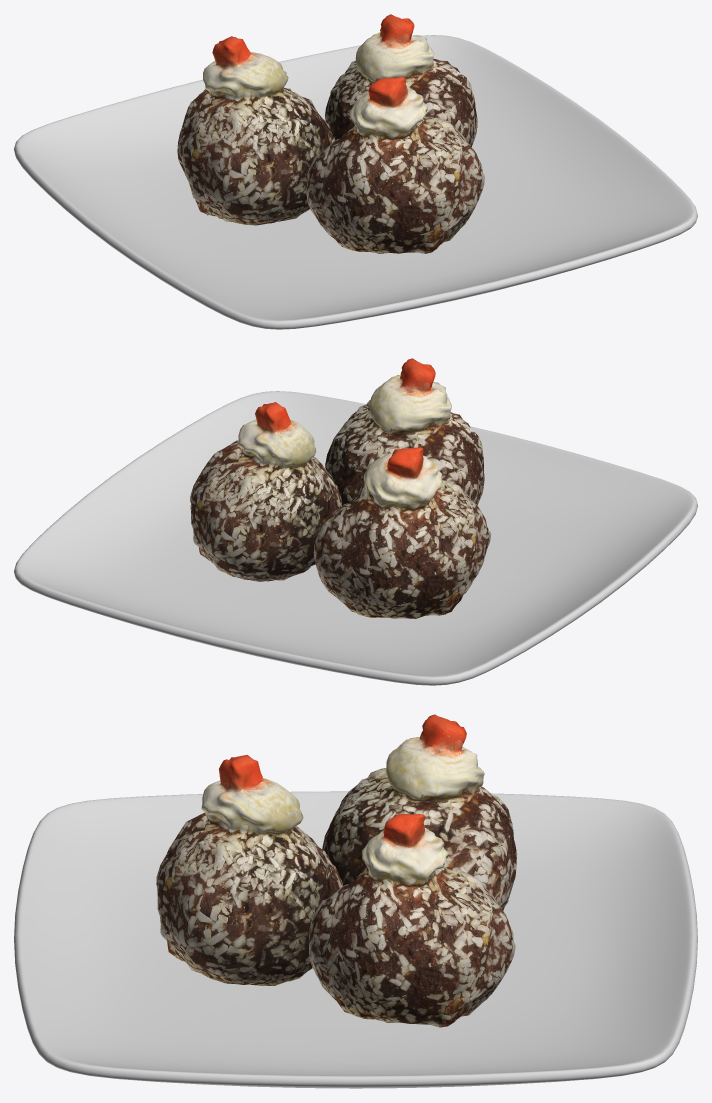
Rendered from cake1.glb.
3 views of the same model, one above another, from view 1: azimuth 30°, elevation 25°; view 2: azimuth 150°, elevation 25°; view 3: azimuth 270°, elevation 25° (orthographic). The views are drawn at different scales.
Parts seen in each view (by area): view 1: cgaxis_models_56_23; view 2: cgaxis_models_56_23; view 3: cgaxis_models_56_23.
Boxes of the visible parts, box(x1,y1,x2,y2) form: cgaxis_models_56_23: box(14, 14, 697, 329); cgaxis_models_56_23: box(14, 358, 697, 685); cgaxis_models_56_23: box(14, 714, 697, 1088).
Bounding box in the file's own units: 0.0933 × 0.0338 × 0.0932.
Materials: 2 (1 with a texture image).
